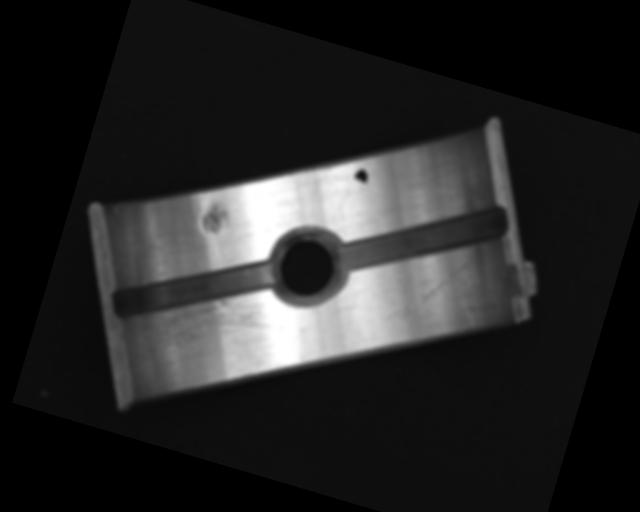blot: (352, 166, 370, 186)
bruise: (198, 201, 233, 238)
gap: (336, 167, 514, 310), (106, 225, 278, 357)
hole: (261, 218, 354, 317)
nick: (384, 240, 474, 340)
scratch: (119, 268, 293, 408)
